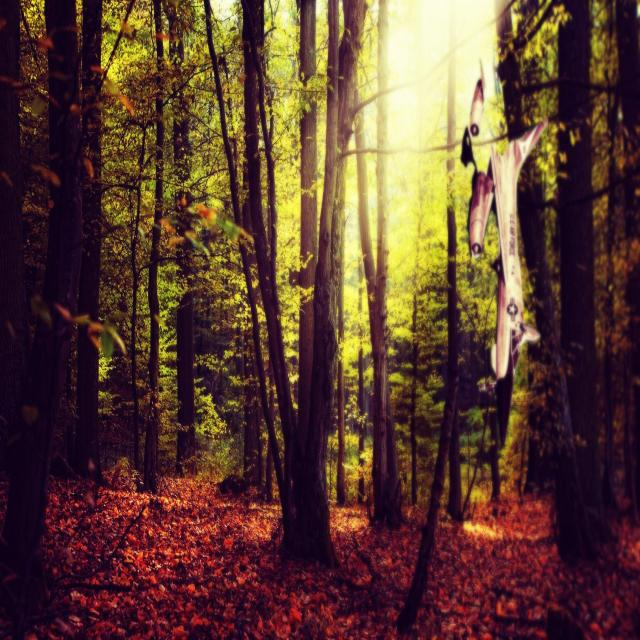airplane: (460, 64, 548, 448)
